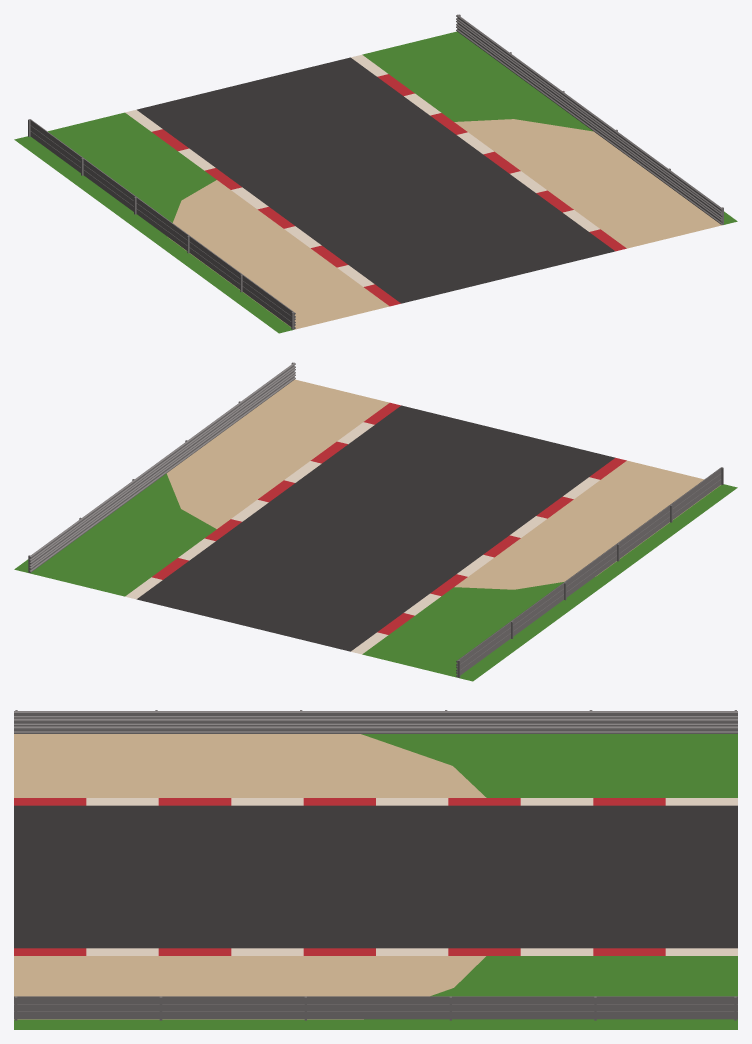
Rendered from tiles-nb_tile-race-track-straight-curbs-sand-cut-nb.fbx.
3 views of the same model, one above another, from view 1: azimuth 30°, elevation 25°; view 2: azimuth 150°, elevation 25°; view 3: azimuth 270°, elevation 25° (orthographic). The views are drawn at different scales.
Visible parts, largest first — view 1: tiles_nb_tile_race_track_straight_curbs_sand_cut_nb; view 2: tiles_nb_tile_race_track_straight_curbs_sand_cut_nb; view 3: tiles_nb_tile_race_track_straight_curbs_sand_cut_nb.
Part boxes in pixels (x1,y1,x2,y2): tiles_nb_tile_race_track_straight_curbs_sand_cut_nb: (14,14,737,333); tiles_nb_tile_race_track_straight_curbs_sand_cut_nb: (14,362,737,681); tiles_nb_tile_race_track_straight_curbs_sand_cut_nb: (14,710,737,1029).
Bounding box in the file's own units: 200 × 7 × 200.
